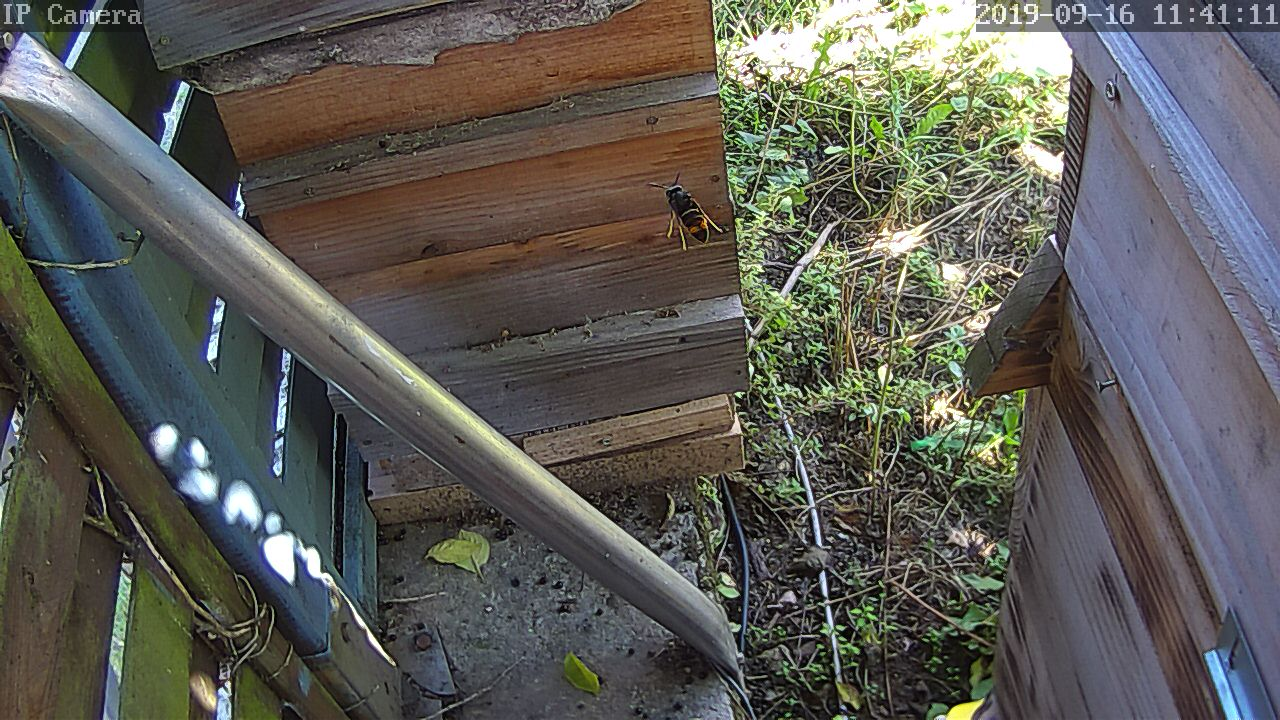hornet: (30, 0, 1218, 718), (657, 181, 714, 245)
